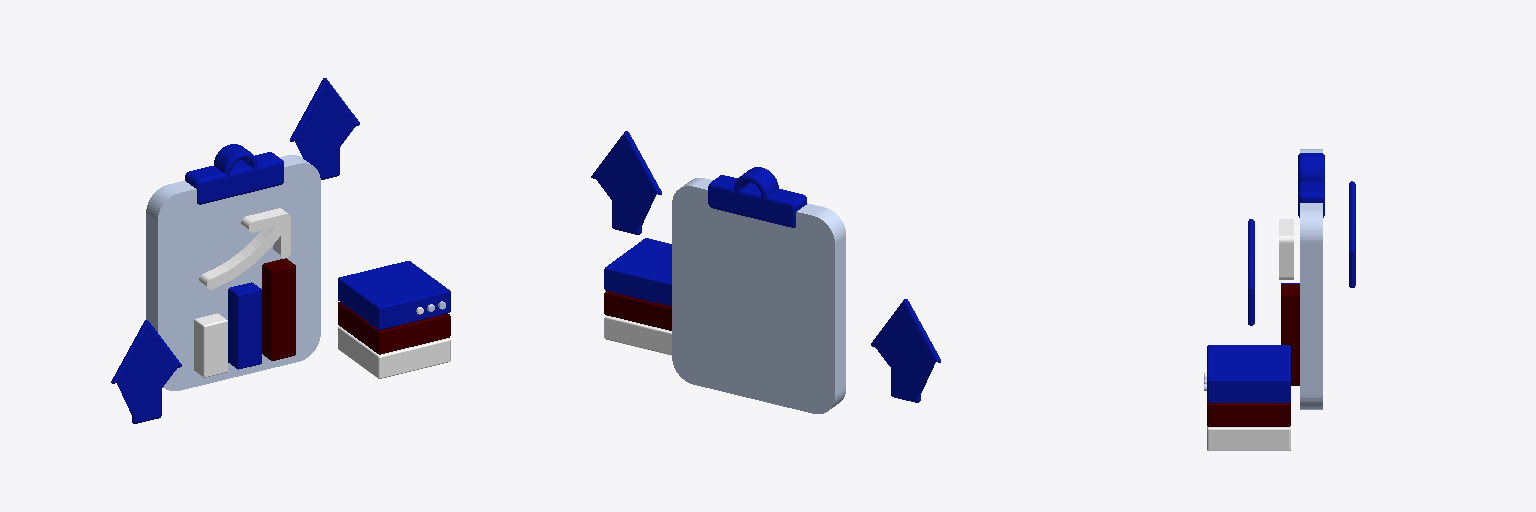
File: data.obj
3 views of the same model, side by side, from view 1: azimuth 30°, elevation 25°; view 2: azimuth 150°, elevation 25°; view 3: azimuth 270°, elevation 25° (orthographic).
Visible parts, largest first — view 1: 立方体, 立方体.004, 形状结合.001, 形状结合.002, 柱体.003, 立方体.007, Curve, 立方体.006, 立方体.002, 立方体.003, 立方体.005; view 2: 立方体, 形状结合.001, 形状结合.002, 柱体.003, 立方体.004, 立方体.002, 立方体.003; view 3: 立方体.004, 立方体, 立方体.002, 立方体.003, 立方体.007, 柱体.003, Curve, 形状结合.001, 形状结合.002.
Part boxes in pixels (bbox=[...]): 立方体: bbox=[146, 155, 320, 390]; 立方体.004: bbox=[338, 261, 450, 329]; 形状结合.001: bbox=[111, 320, 181, 423]; 形状结合.002: bbox=[290, 78, 359, 179]; 柱体.003: bbox=[185, 144, 283, 204]; 立方体.007: bbox=[262, 258, 295, 360]; Curve: bbox=[199, 208, 290, 289]; 立方体.006: bbox=[228, 282, 261, 369]; 立方体.002: bbox=[338, 302, 450, 354]; 立方体.003: bbox=[338, 326, 450, 378]; 立方体.005: bbox=[194, 313, 227, 377]; 立方体: bbox=[672, 178, 845, 413]; 形状结合.001: bbox=[871, 299, 940, 402]; 形状结合.002: bbox=[591, 131, 661, 234]; 柱体.003: bbox=[708, 167, 806, 227]; 立方体.004: bbox=[604, 238, 671, 306]; 立方体.002: bbox=[604, 291, 671, 330]; 立方体.003: bbox=[604, 315, 671, 355]; 立方体.004: bbox=[1207, 345, 1290, 402]; 立方体: bbox=[1300, 149, 1322, 409]; 立方体.002: bbox=[1207, 402, 1290, 426]; 立方体.003: bbox=[1207, 426, 1290, 450]; 立方体.007: bbox=[1281, 284, 1299, 385]; 柱体.003: bbox=[1298, 153, 1324, 217]; Curve: bbox=[1279, 219, 1293, 279]; 形状结合.001: bbox=[1248, 219, 1254, 325]; 形状结合.002: bbox=[1349, 181, 1355, 287].
Size of the model in its own units: 4.07 by 3.08 by 1.68.